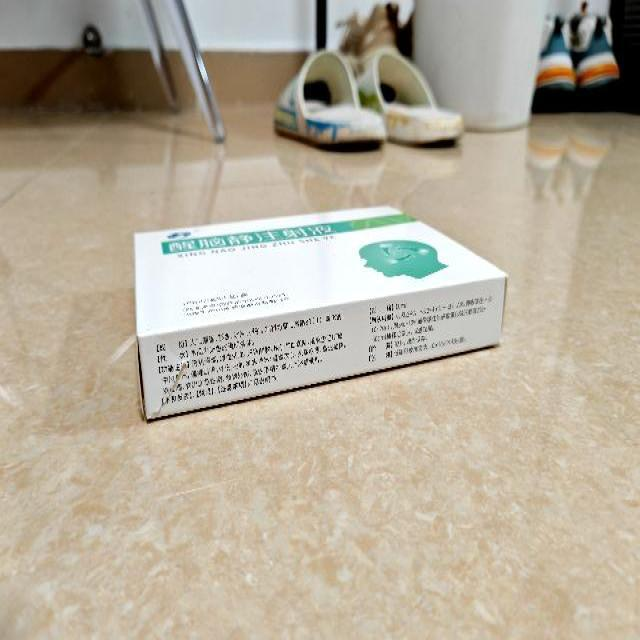box: (135, 202, 510, 422)
